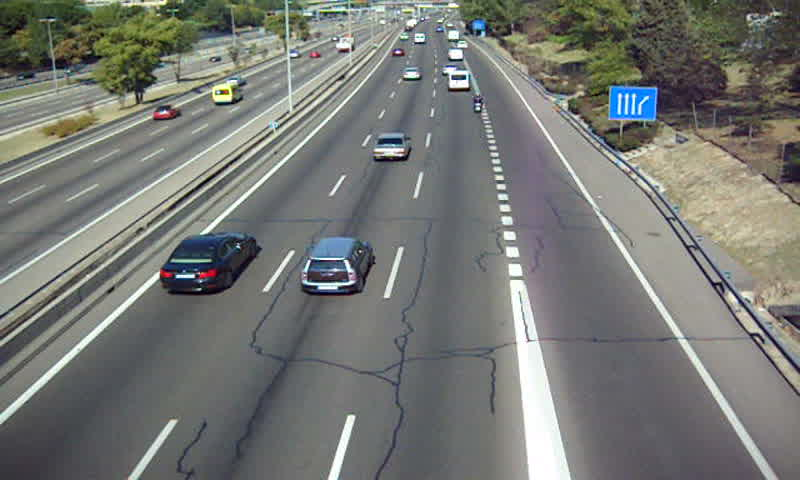car: (161, 232, 256, 291), (299, 238, 373, 294), (372, 132, 410, 160), (402, 66, 421, 80)
motorcycle: (472, 93, 485, 113)
van: (448, 70, 470, 91), (449, 50, 465, 61)
